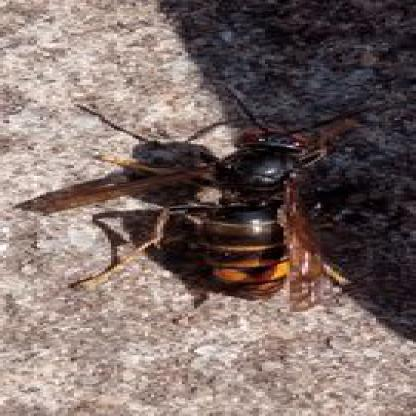Asian Hornet: (61, 107, 359, 303)
